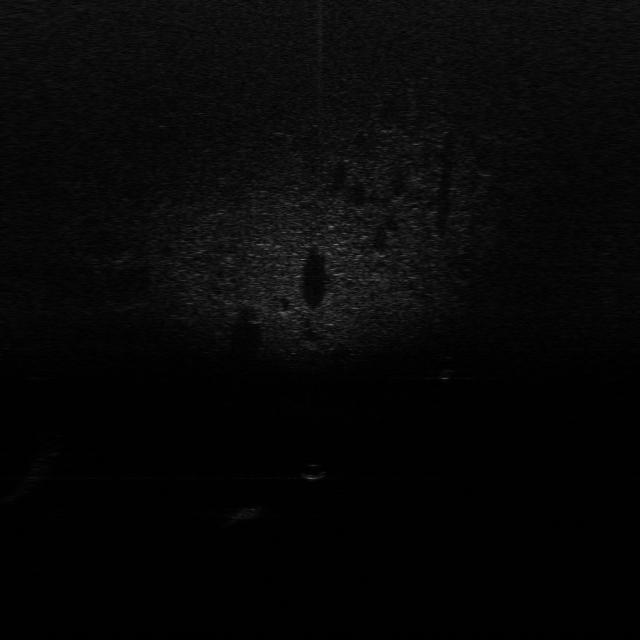ball: (293, 460, 328, 484)
square cage: (218, 501, 267, 520)
tyre: (437, 351, 461, 383)
